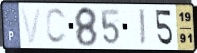5: (99, 8, 122, 46), (154, 8, 175, 46)
8: (73, 5, 100, 49)
C: (45, 7, 69, 46)
I: (137, 7, 147, 48)
V: (18, 6, 43, 46)
